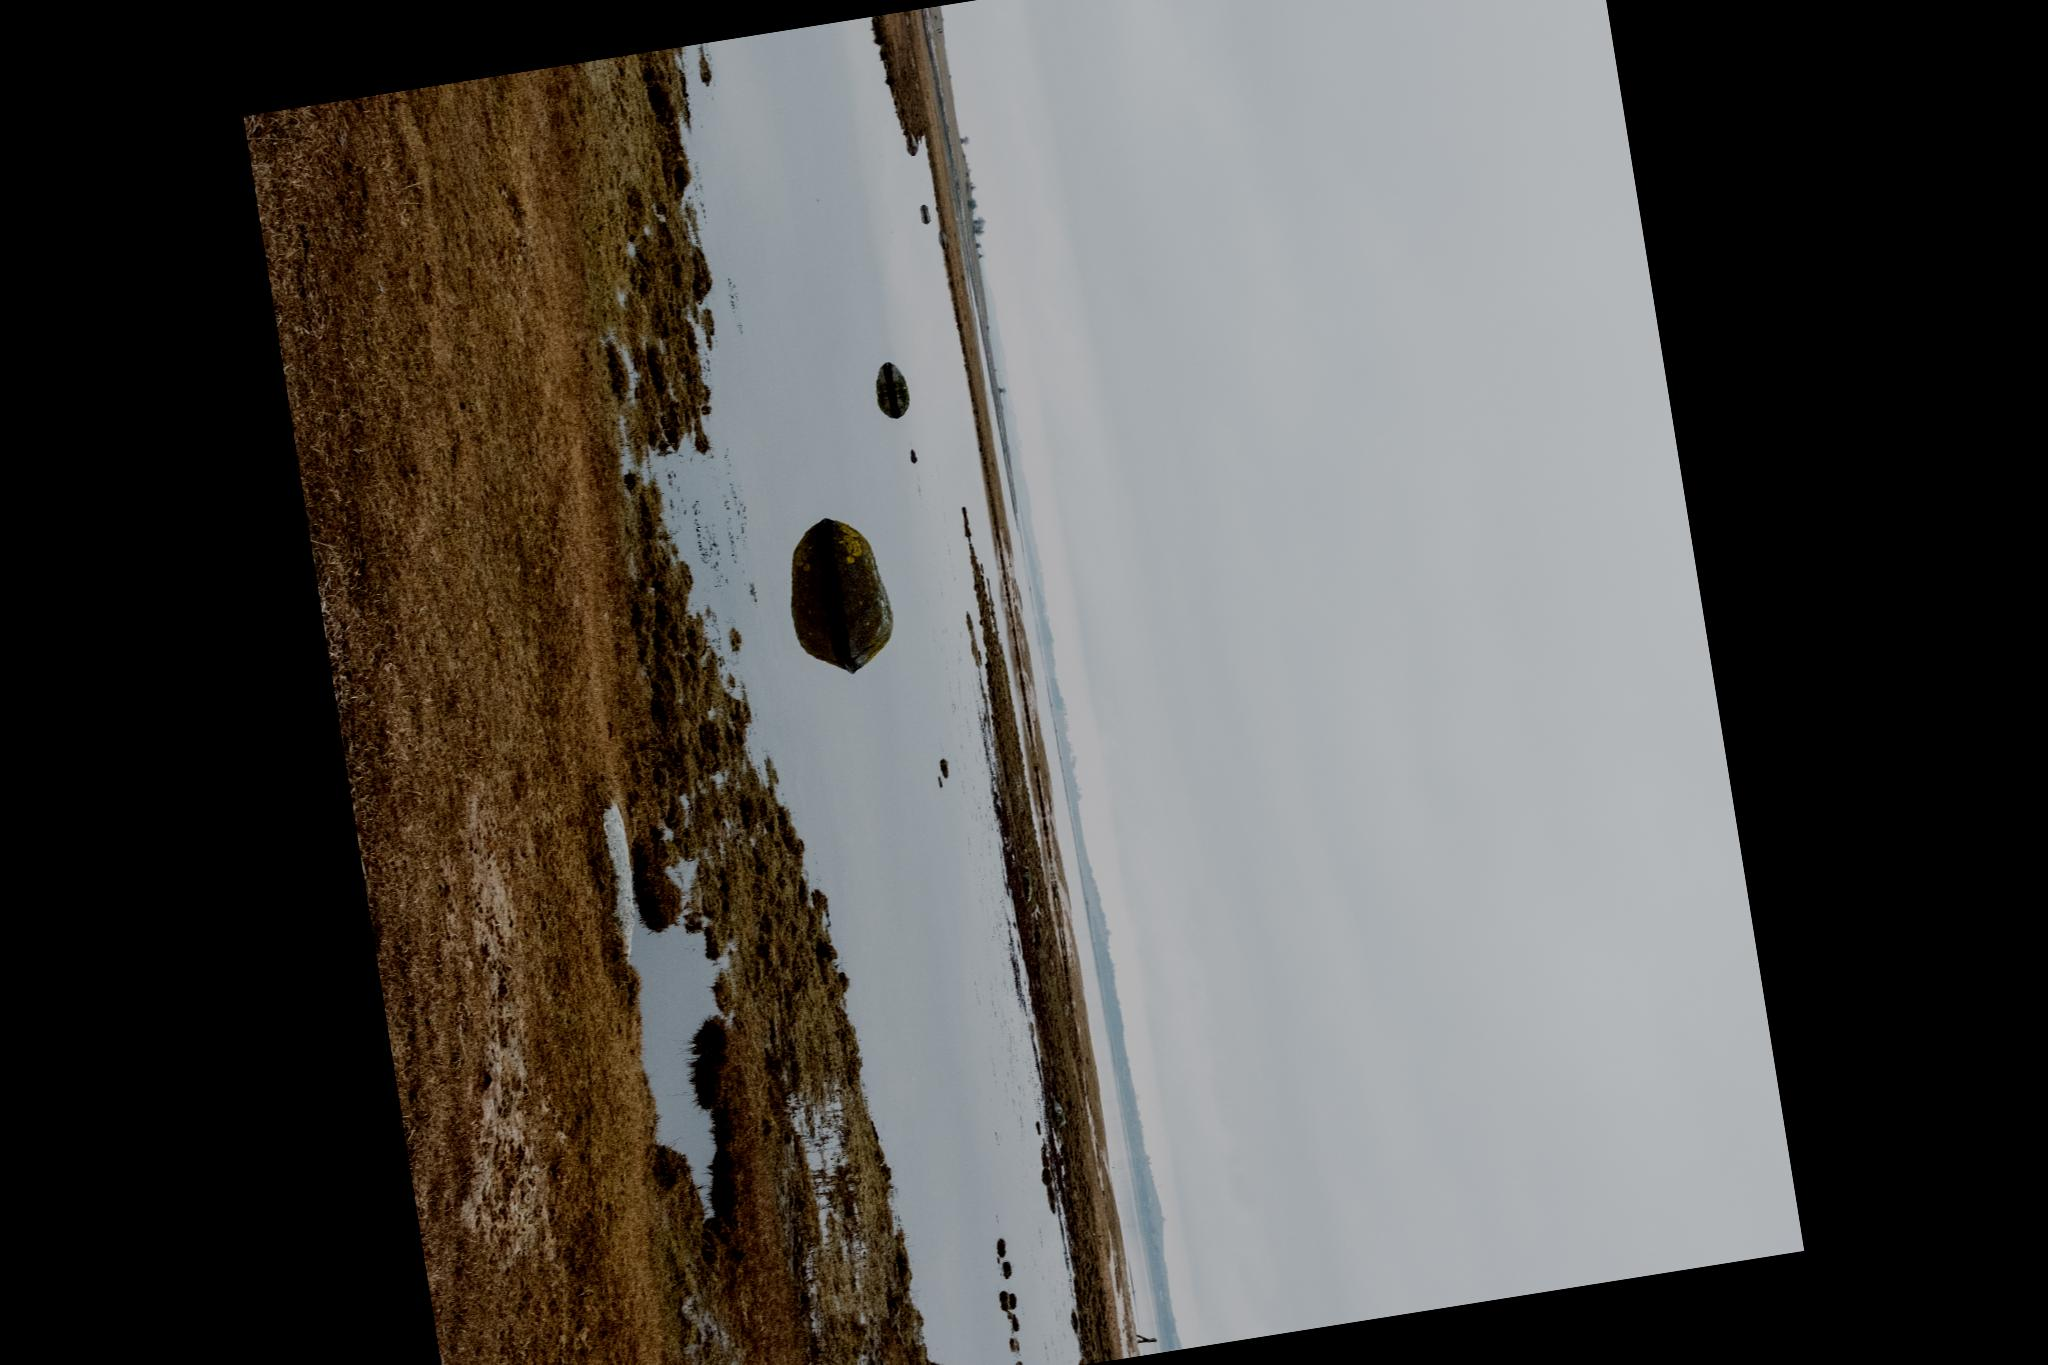Stagnant water: (321, 550, 850, 1365)
